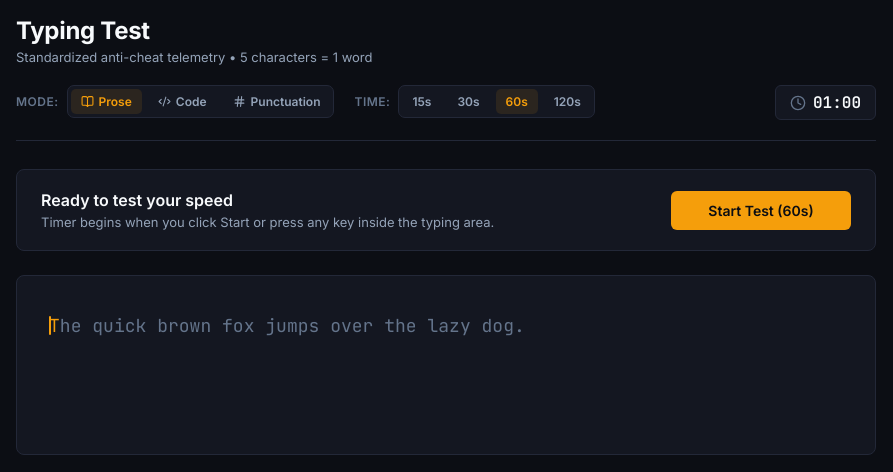
Test: TypingTest Component & Engine › 2. Allows selecting different timer and category modes before test start
Check: the heading "Typing Test" is shown, box 16,16 -> 150,45
Check: the button "Prose" is shown, box 71,89 -> 142,114
Click 15s chip
Click the button "15s" at (422, 102), box 402,89 -> 441,114
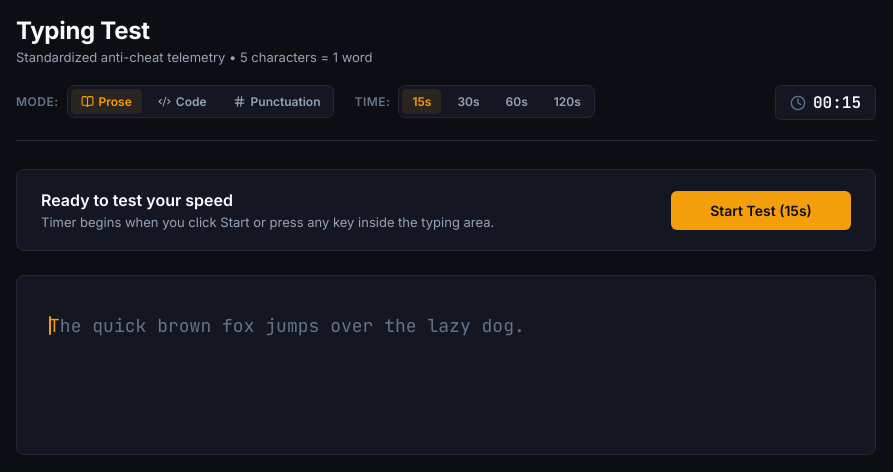
Check: the button "Start Test (15s)" is shown, box 671,190 -> 851,230
Click 30s chip
Click the button "30s" at (468, 102), box 447,89 -> 490,114
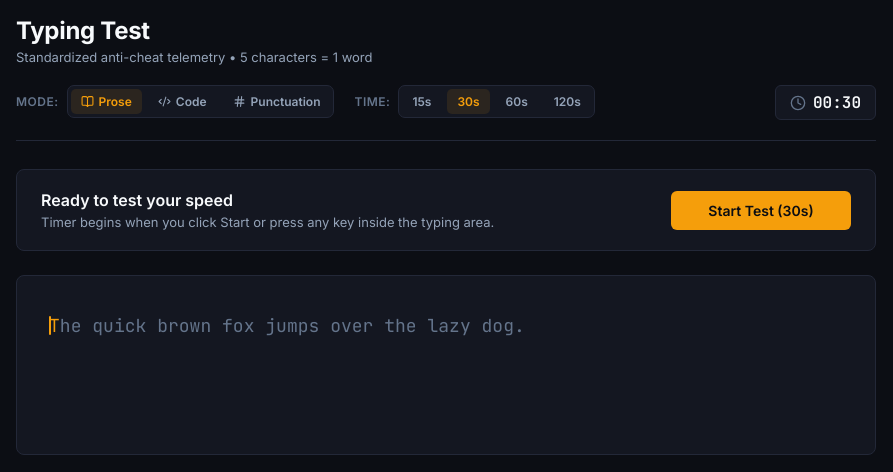
Check: the button "Start Test (30s)" is shown, box 671,190 -> 851,230
